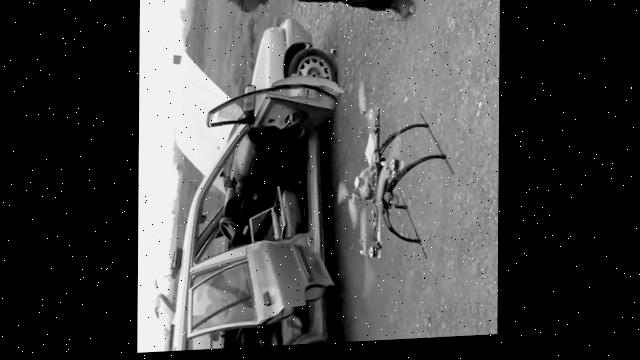drone: (336, 78, 454, 306)
